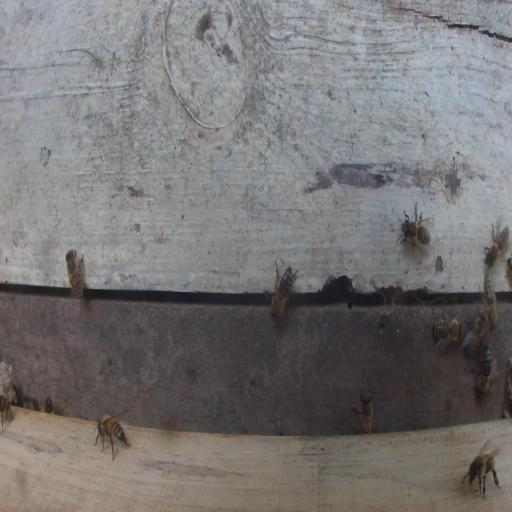nonpollenbee: (462, 438, 502, 502), (396, 204, 434, 258), (94, 412, 130, 462), (269, 260, 298, 319), (483, 222, 509, 268), (463, 311, 488, 356), (432, 316, 464, 351), (351, 389, 374, 434), (65, 247, 84, 300), (474, 343, 492, 396), (482, 274, 498, 332), (0, 393, 14, 430), (506, 257, 512, 289), (43, 396, 53, 414)
